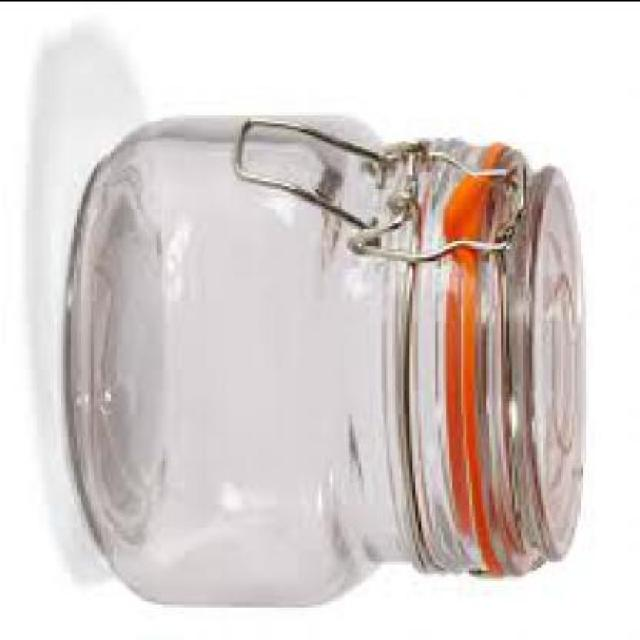GLASS: (69, 120, 586, 608)
